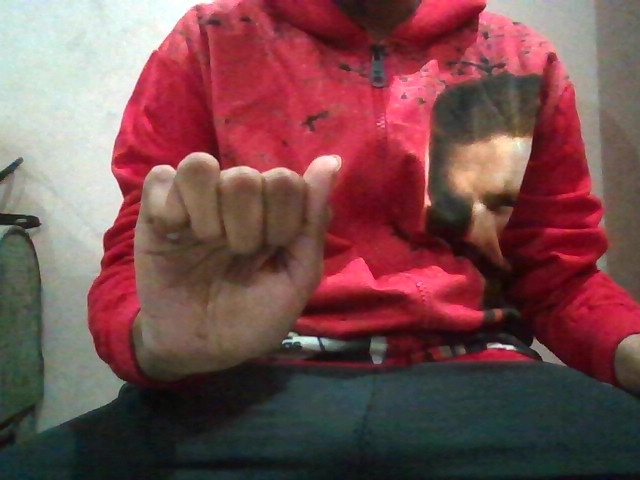A: (122, 150, 346, 386)
